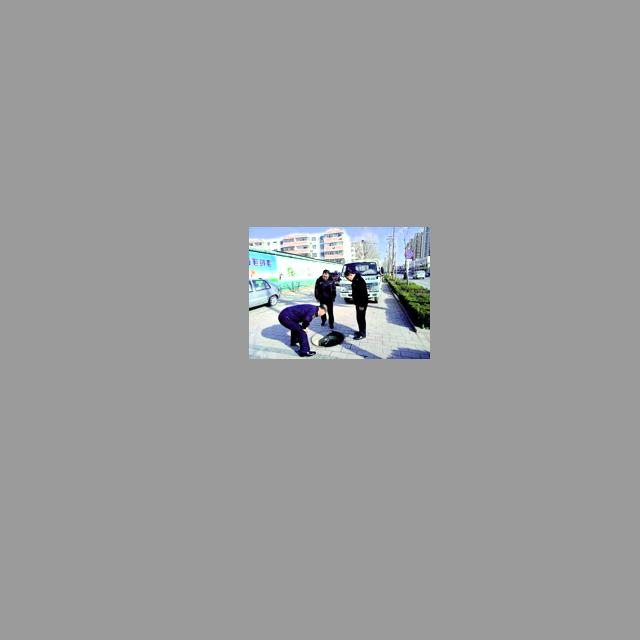broke: (306, 326, 349, 347)
